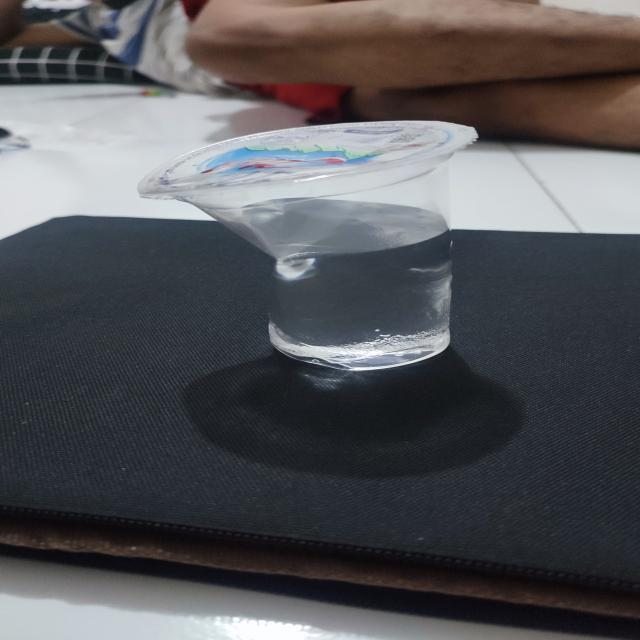air-gelas-rusak: (135, 116, 499, 377)
